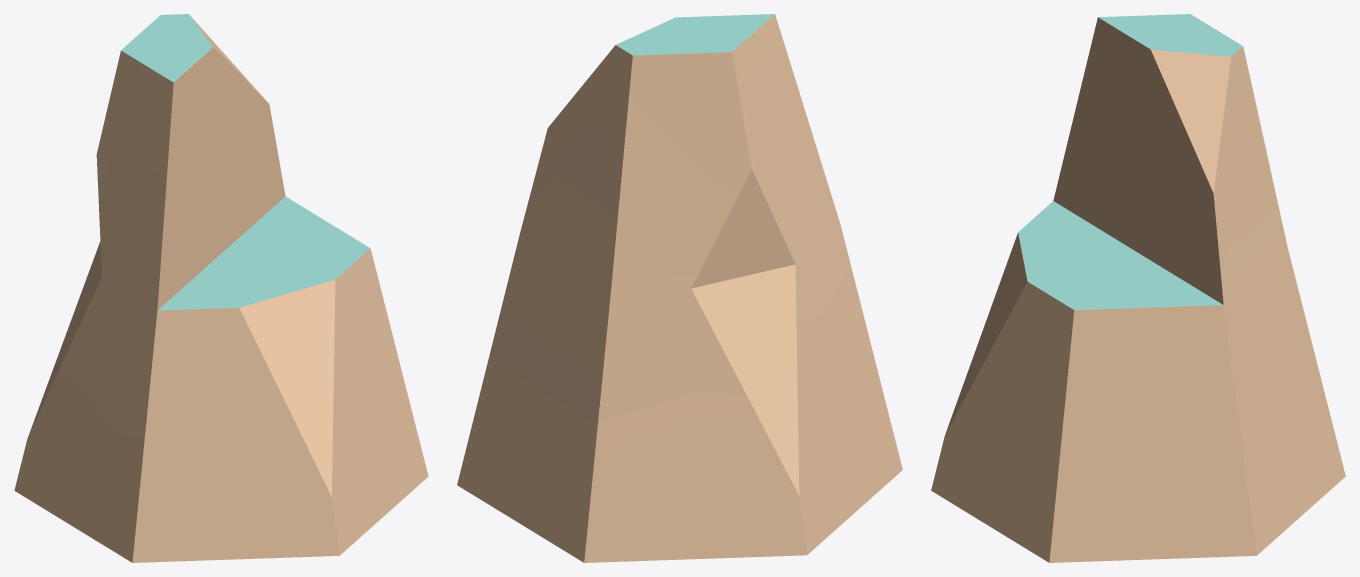
The model's file is rock_tall10.glb.
The picture shows the model from 3 angles, left to right: view 1: azimuth 30°, elevation 25°; view 2: azimuth 150°, elevation 25°; view 3: azimuth 270°, elevation 25°; orthographic projection. The views are drawn at different scales.
Visible parts, largest first — view 1: rock_tall10; view 2: rock_tall10; view 3: rock_tall10.
Part boxes in pixels (x1,y1,x2,y2): rock_tall10: [14, 14, 428, 562]; rock_tall10: [457, 14, 902, 562]; rock_tall10: [931, 14, 1345, 562].
Size of the model in its own units: 0.4879 by 0.62 by 0.5382.
